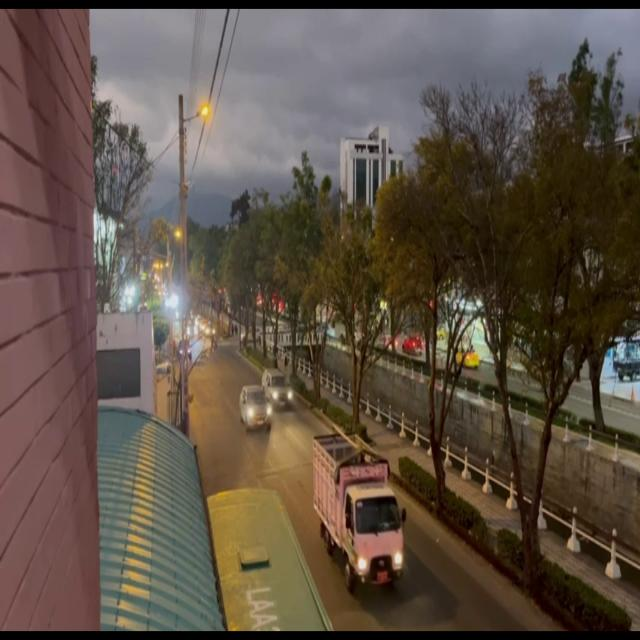CMT: (265, 370, 292, 408)
SUV: (241, 388, 269, 432)
TRUCK: (312, 436, 403, 584)
